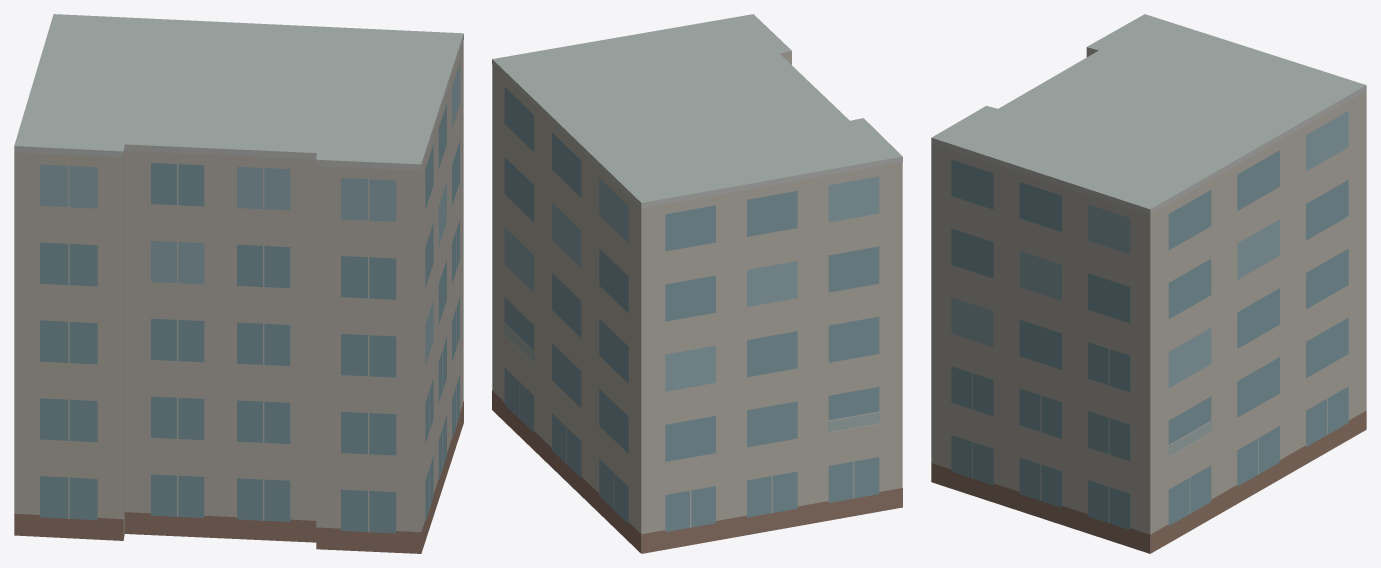
File: survey-upis-32872039.glb
The picture shows the model from 3 angles, left to right: view 1: azimuth 30°, elevation 25°; view 2: azimuth 150°, elevation 25°; view 3: azimuth 270°, elevation 25°; orthographic projection. The views are drawn at different scales.
Parts seen in each view (by area): view 1: survey-upis-32872039.tmp; view 2: survey-upis-32872039.tmp; view 3: survey-upis-32872039.tmp.
Part boxes in pixels (x1=…): survey-upis-32872039.tmp: x1=14, y1=14, x2=463, y2=553; survey-upis-32872039.tmp: x1=492, y1=14, x2=902, y2=553; survey-upis-32872039.tmp: x1=931, y1=14, x2=1366, y2=553.
Bounding box in the file's own units: 18.56 × 15.25 × 17.47.
